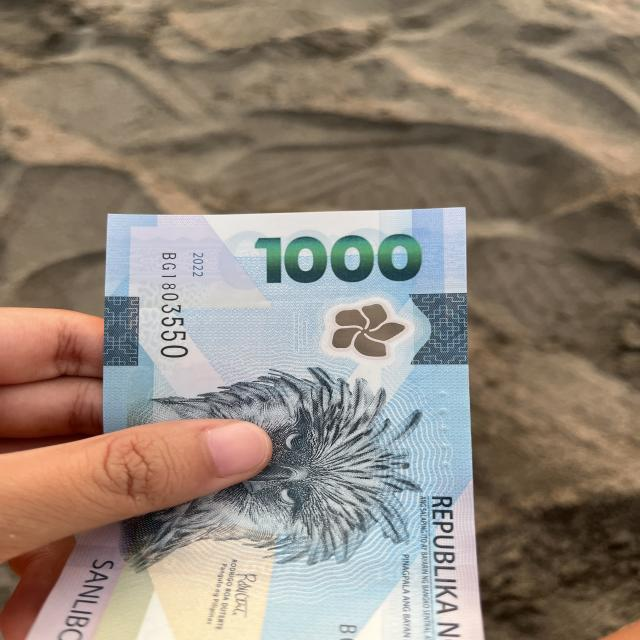eagle: (104, 353, 432, 576)
sampaguita: (309, 292, 418, 369)
